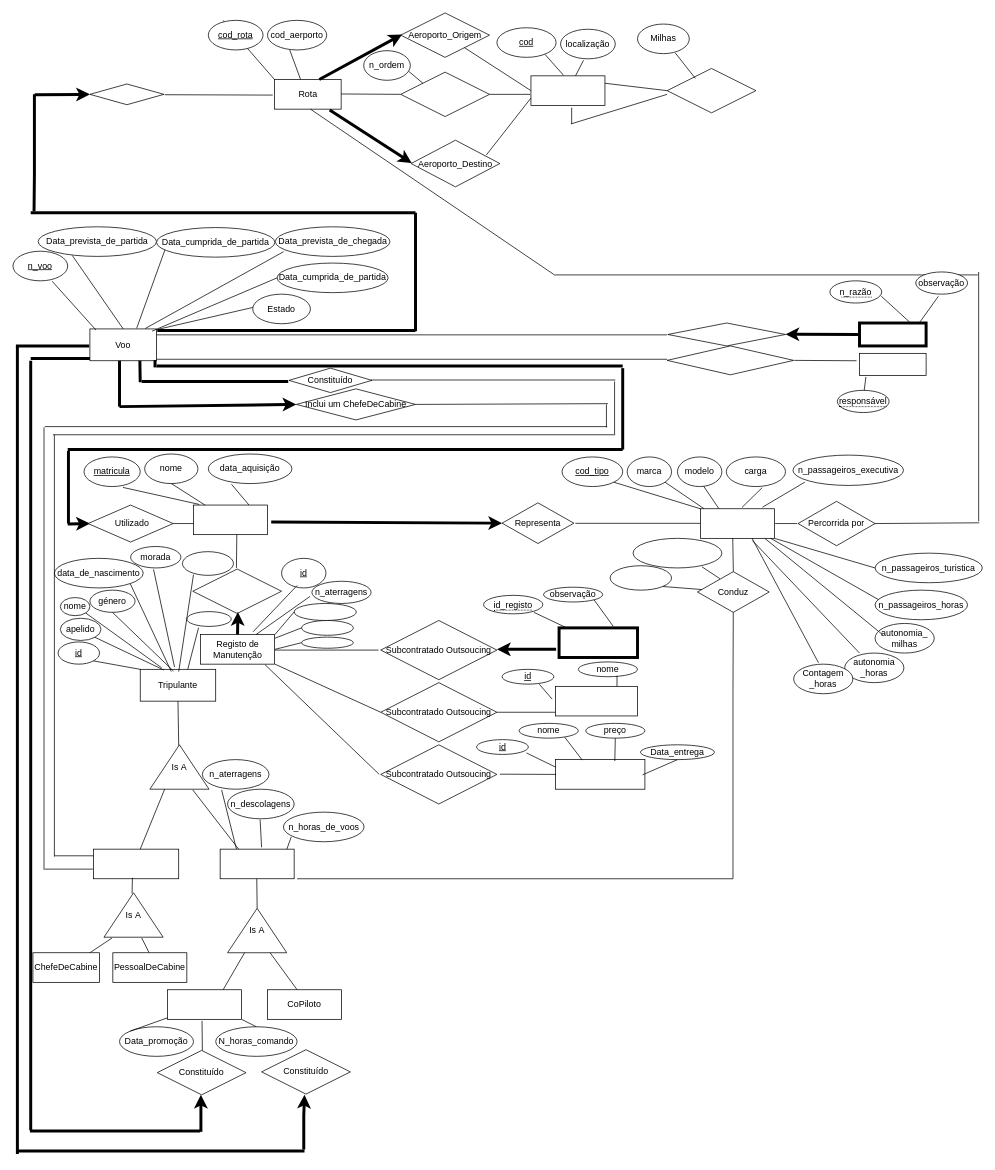
This 995x1170 diagram has some shape labels left out. Each missing label, with the box of its shape:
Aeroporto: (530, 75, 605, 105)
Avião: (193, 504, 268, 535)
Cancelado: (667, 322, 786, 346)
Comandante: (167, 989, 242, 1019)
data_emissão_licença: (632, 538, 722, 568)
data_inicio: (301, 636, 353, 648)
distância: (666, 68, 756, 113)
EmpresaManutenção: (555, 759, 645, 789)
Escalas: (400, 71, 490, 117)
escalão: (182, 551, 233, 575)
HospedeirosDeBordo: (93, 848, 179, 879)
n_horas_voo: (293, 603, 356, 620)
n_licença: (609, 565, 672, 590)
n_milhas: (301, 620, 353, 635)
Pessoa: (859, 353, 926, 376)
PessoalDaEmpresa: (555, 686, 638, 716)
Piloto: (219, 848, 294, 879)
Produz: (192, 568, 282, 613)
Prossegue: (89, 83, 164, 105)
Razão de cancelamento: (858, 321, 927, 347)
RegistoDaSituação: (557, 626, 639, 659)
ResponsávelCancelamento: (666, 345, 794, 375)
tipo: (186, 611, 231, 626)
Tipo Avião: (700, 508, 774, 538)
